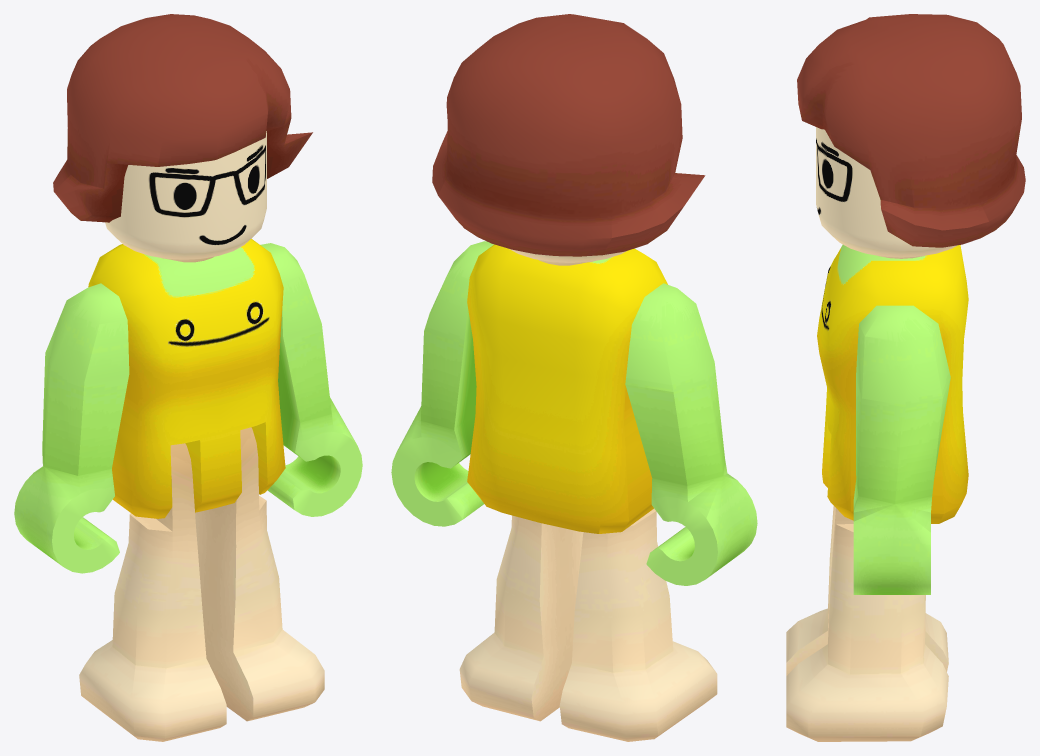
File: plakids_b1.glb
3 views of the same model, side by side, from view 1: azimuth 30°, elevation 25°; view 2: azimuth 150°, elevation 25°; view 3: azimuth 270°, elevation 25° (orthographic). The views are drawn at different scales.
Parts seen in each view (by area): view 1: plakids_head, plakids_dou, plakids_R_leg, plakids_R_arm, plakids_L_leg, plakids_L_arm; view 2: plakids_head, plakids_dou, plakids_R_arm, plakids_R_leg, plakids_L_leg, plakids_L_arm; view 3: plakids_head, plakids_L_arm, plakids_L_leg, plakids_dou, plakids_R_leg.
Boxes of the visible parts, x1,y1,x2,y2 form: plakids_head: [53, 14, 312, 262]; plakids_dou: [88, 239, 285, 518]; plakids_R_leg: [79, 443, 226, 741]; plakids_R_arm: [14, 283, 129, 573]; plakids_L_leg: [195, 427, 324, 721]; plakids_L_arm: [260, 243, 362, 516]; plakids_head: [432, 14, 705, 265]; plakids_dou: [467, 244, 667, 533]; plakids_R_arm: [625, 283, 757, 585]; plakids_R_leg: [559, 508, 717, 741]; plakids_L_leg: [459, 515, 583, 721]; plakids_L_arm: [391, 241, 493, 526]; plakids_head: [797, 14, 1025, 258]; plakids_L_arm: [853, 305, 950, 594]; plakids_L_leg: [786, 508, 948, 741]; plakids_dou: [817, 244, 968, 523]; plakids_R_leg: [786, 506, 948, 675].
Size of the model in its own units: 1.86 by 3.72 by 1.21.
2 materials, 2 textured.
